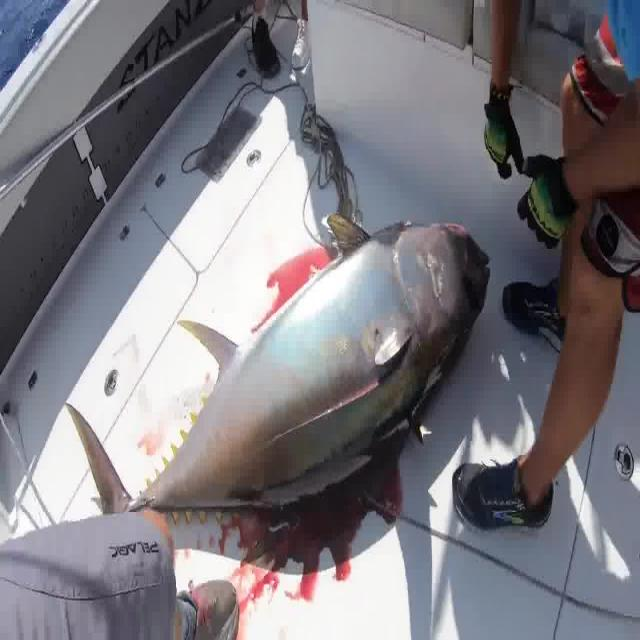Big Eye Tuna: (62, 211, 492, 543)
